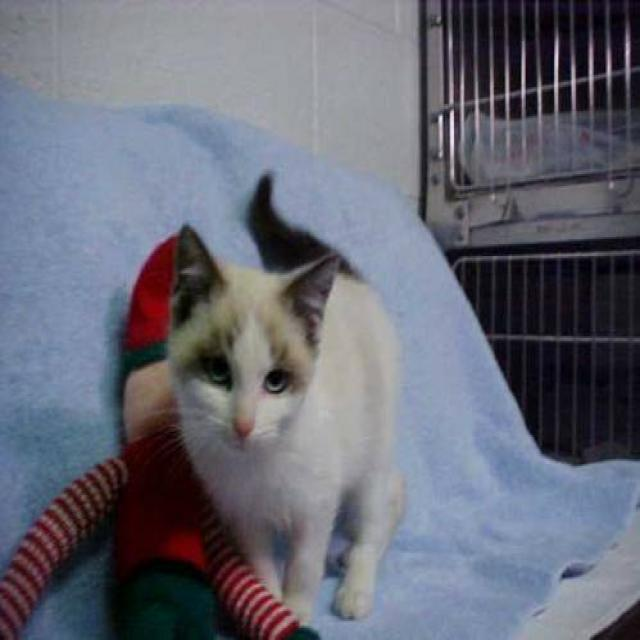cat: (163, 181, 405, 625)
